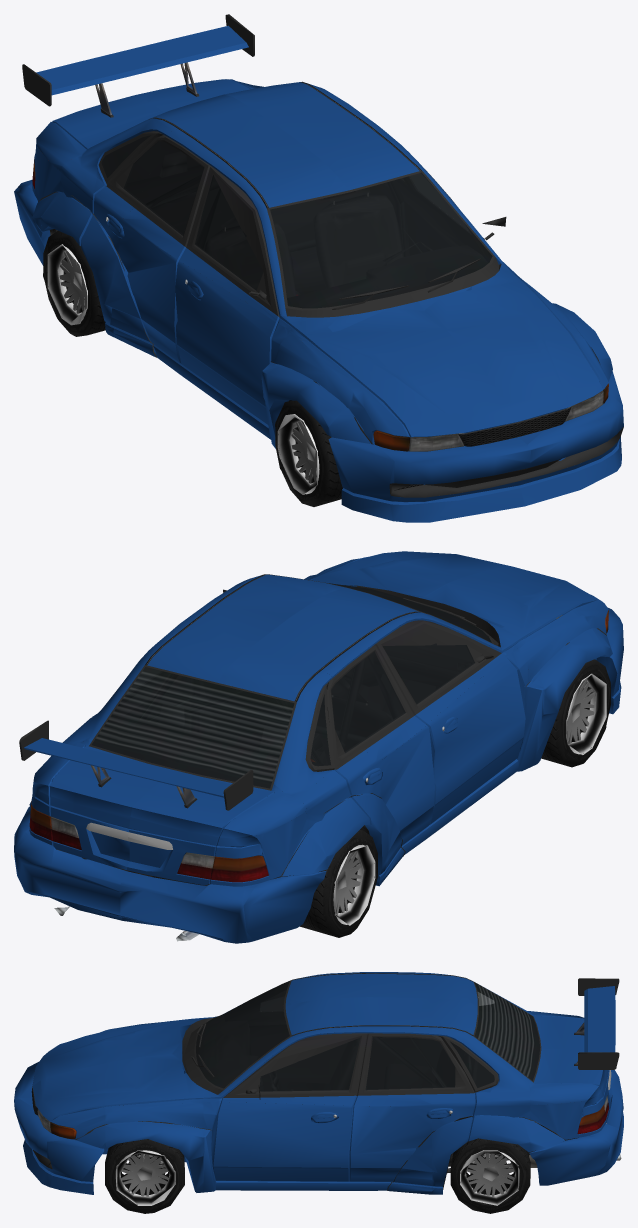
File: car_kiri_lo.glb
3 renders of one model, top to bottom at view 1: azimuth 30°, elevation 25°; view 2: azimuth 150°, elevation 25°; view 3: azimuth 270°, elevation 25°, orthographic. The views are drawn at different scales.
Parts seen in each view (by area): view 1: roof, door.R, cockpit, nose.R, chassis, nose.L, bonnet, quarter.R, fender.R, WheelFrontR, WheelRearR, deck (+2 smaller); view 2: roof, door.R, tail.R, cockpit, chassis, tail.L, quarter.R, deck, fender.R, WheelRearR, WheelFrontR, nose.R (+2 smaller); view 3: roof, door.L, cockpit, chassis, nose.L, tail.L, quarter.L, WheelRearL, WheelFrontL, fender.L, deck, bonnet (+2 smaller).
Part boxes in pixels (left/top/right/bottom): roof: left=34, top=25, right=535, bottom=355; door.R: left=97, top=129, right=293, bottom=448; cockpit: left=102, top=123, right=491, bottom=308; nose.R: left=328, top=355, right=530, bottom=522; chassis: left=22, top=14, right=623, bottom=497; nose.L: left=470, top=337, right=623, bottom=506; bonnet: left=290, top=273, right=583, bottom=394; quarter.R: left=41, top=160, right=134, bottom=337; fender.R: left=261, top=332, right=367, bottom=448; WheelFrontR: left=275, top=400, right=342, bottom=506; WheelRearR: left=43, top=230, right=105, bottom=336; deck: left=70, top=83, right=332, bottom=200; roof: left=24, top=567, right=535, bottom=859; door.R: left=307, top=618, right=545, bottom=879; tail.R: left=119, top=755, right=326, bottom=943; cockpit: left=92, top=595, right=490, bottom=787; chassis: left=19, top=574, right=606, bottom=941; tail.L: left=14, top=741, right=182, bottom=920; quarter.R: left=297, top=750, right=389, bottom=886; deck: left=68, top=634, right=360, bottom=798; fender.R: left=518, top=607, right=610, bottom=766; WheelRearR: left=300, top=830, right=377, bottom=937; WheelFrontR: left=541, top=659, right=610, bottom=767; nose.R: left=469, top=566, right=623, bottom=714; roof: left=120, top=972, right=615, bottom=1117; door.L: left=203, top=1032, right=499, bottom=1194; cockpit: left=196, top=973, right=539, bottom=1106; chassis: left=31, top=973, right=621, bottom=1190; nose.L: left=14, top=1063, right=105, bottom=1194; tail.L: left=529, top=1041, right=623, bottom=1185; quarter.L: left=432, top=1091, right=530, bottom=1194; WheelRearL: left=449, top=1138, right=530, bottom=1213; WheelFrontL: left=105, top=1139, right=184, bottom=1213; fender.L: left=105, top=1099, right=203, bottom=1192; deck: left=432, top=973, right=530, bottom=1094; bonnet: left=105, top=1018, right=203, bottom=1113.
Bounding box in the file's own units: 1.82 × 1.32 × 4.4.
Materials: 6 (5 with a texture image).
